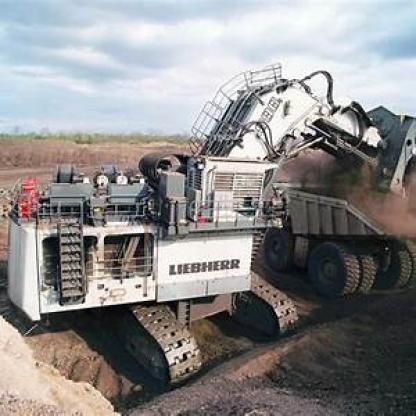excavator: (13, 45, 414, 386)
